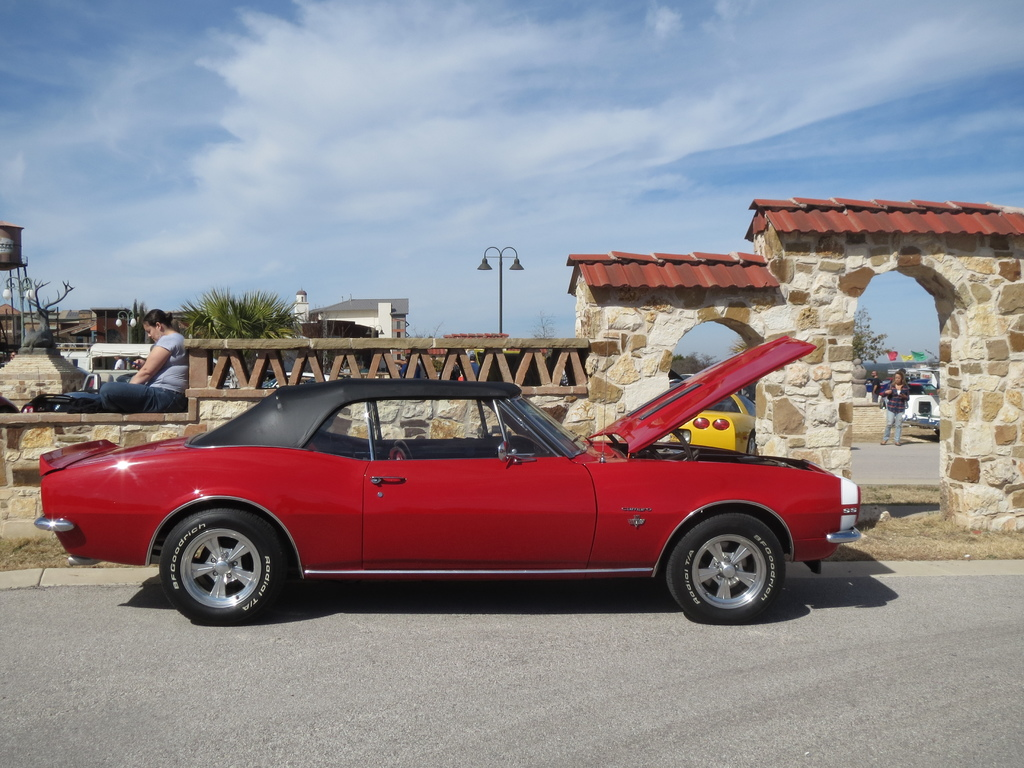Car: (34, 330, 865, 625), (865, 373, 941, 431)
